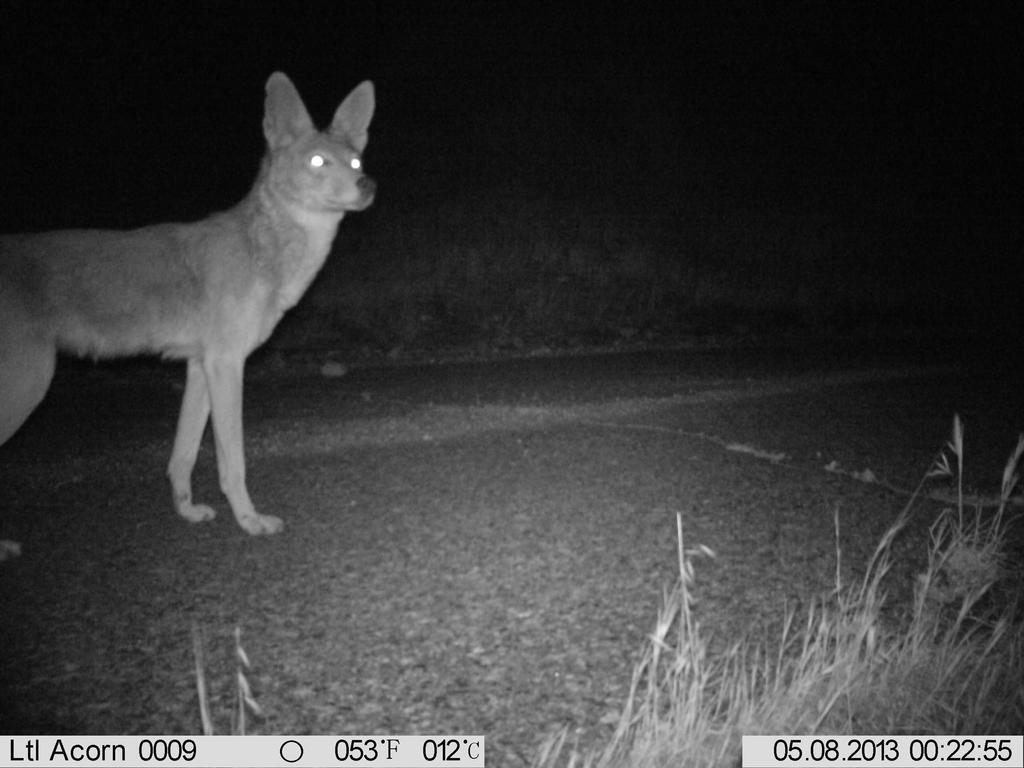coyote: (3, 67, 383, 561)
